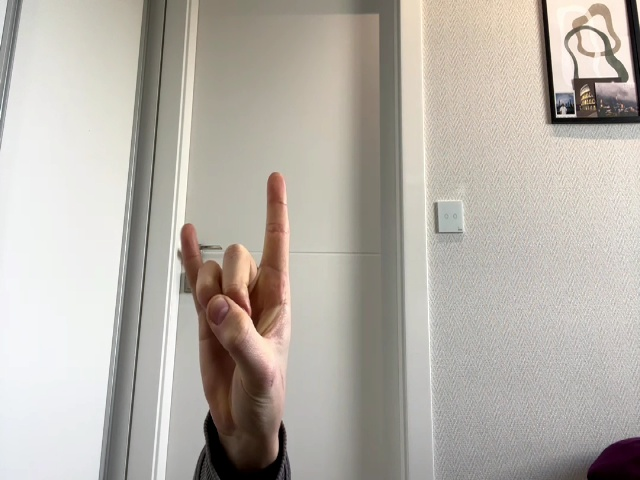Y: (181, 172, 291, 429)
